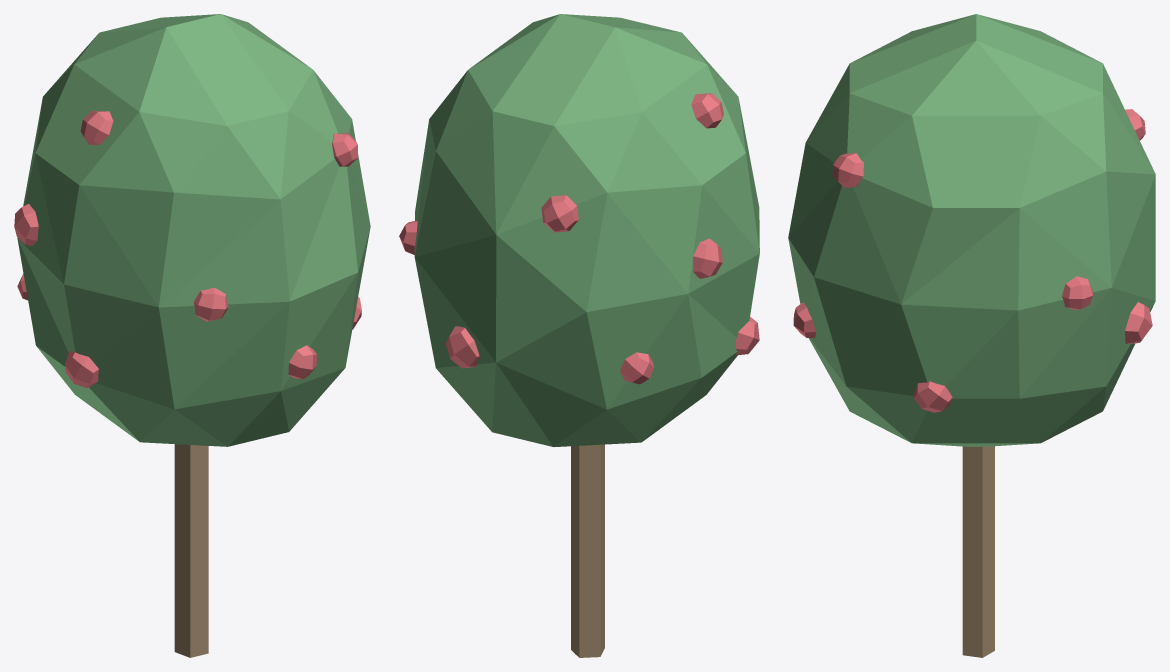
The model's file is tree-round-apple.glb.
3 views of the same model, side by side, from view 1: azimuth 30°, elevation 25°; view 2: azimuth 150°, elevation 25°; view 3: azimuth 270°, elevation 25° (orthographic).
Parts seen in each view (by area): view 1: tree_round_apple; view 2: tree_round_apple; view 3: tree_round_apple.
Boxes of the visible parts, x1=… form: tree_round_apple: x1=14, y1=14, x2=370, y2=657; tree_round_apple: x1=399, y1=14, x2=759, y2=657; tree_round_apple: x1=788, y1=14, x2=1155, y2=657.
Size of the model in its own units: 258 by 506 by 270.
